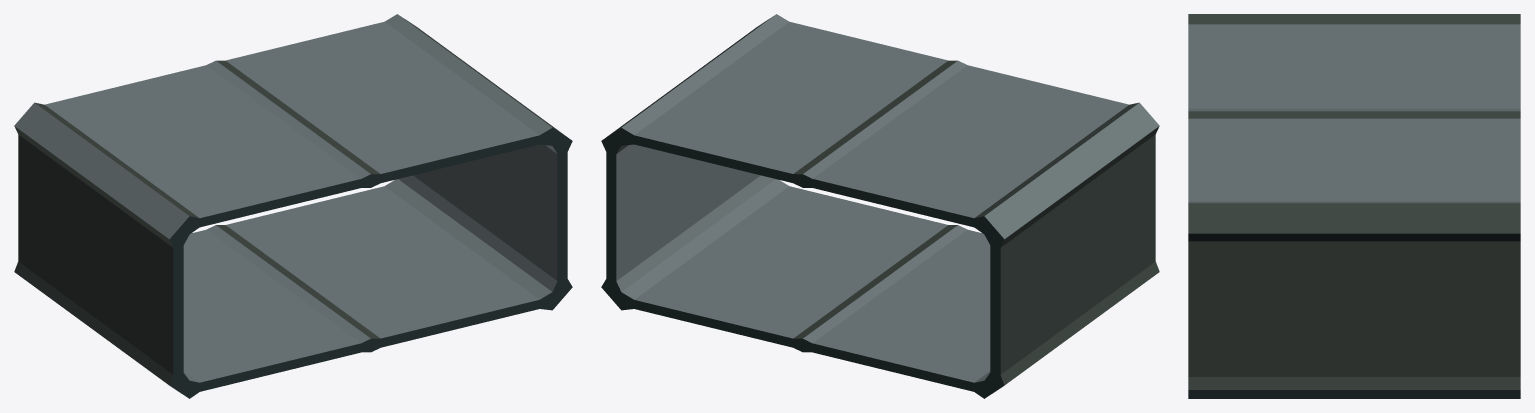
Rendered from slicer.fbx.
The picture shows the model from 3 angles, left to right: view 1: azimuth 30°, elevation 25°; view 2: azimuth 150°, elevation 25°; view 3: azimuth 270°, elevation 25°; orthographic projection. The views are drawn at different scales.
Visible parts, largest first — view 1: Cube; view 2: Cube; view 3: Cube.
Boxes of the visible parts, x1,y1,x2,y2 form: Cube: (14,14,572,398); Cube: (601,14,1159,398); Cube: (1188,14,1520,398).
Size of the model in its own units: 300 by 130 by 200.
Materials: 1 (1 with a texture image).
